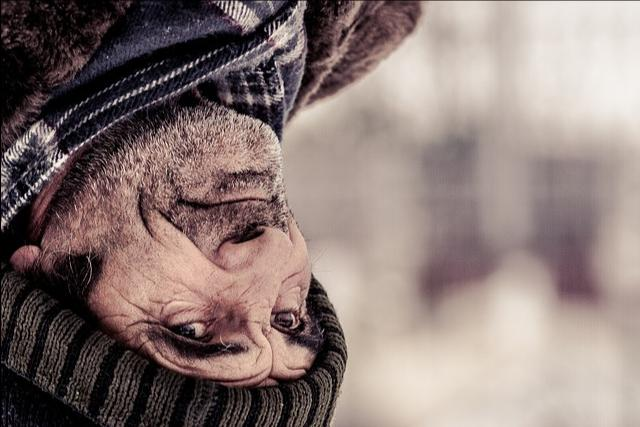Non_Gorille: (1, 8, 500, 427)
